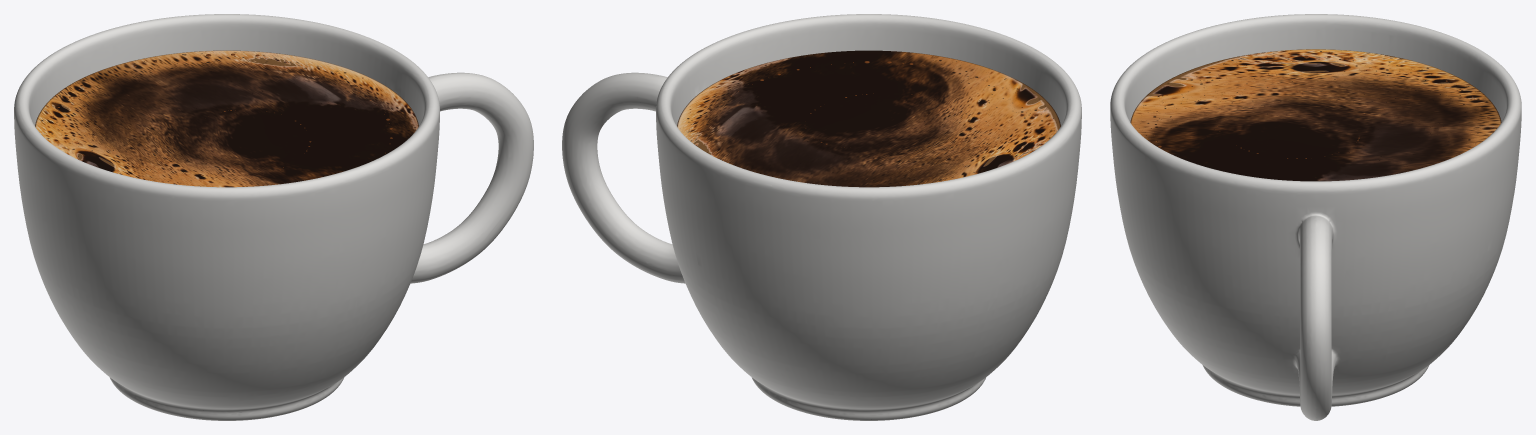
The model's file is ceh-coffee.glb.
The picture shows the model from 3 angles, left to right: view 1: azimuth 30°, elevation 25°; view 2: azimuth 150°, elevation 25°; view 3: azimuth 270°, elevation 25°; orthographic projection. The views are drawn at different scales.
Visible parts, largest first — view 1: CoffeeCup_Ceramic_Export, Coffee_Surface_Export, Coffee_Crema_Export; view 2: CoffeeCup_Ceramic_Export, Coffee_Surface_Export, Coffee_Crema_Export; view 3: CoffeeCup_Ceramic_Export, Coffee_Surface_Export, Coffee_Crema_Export.
Part boxes in pixels (x1=…): CoffeeCup_Ceramic_Export: x1=14, y1=14, x2=533, y2=420; Coffee_Surface_Export: x1=35, y1=50, x2=418, y2=187; Coffee_Crema_Export: x1=35, y1=50, x2=418, y2=187; CoffeeCup_Ceramic_Export: x1=562, y1=14, x2=1081, y2=420; Coffee_Surface_Export: x1=677, y1=50, x2=1060, y2=187; Coffee_Crema_Export: x1=677, y1=52, x2=1060, y2=186; CoffeeCup_Ceramic_Export: x1=1110, y1=14, x2=1521, y2=420; Coffee_Surface_Export: x1=1130, y1=49, x2=1501, y2=181; Coffee_Crema_Export: x1=1130, y1=49, x2=1501, y2=181.
Size of the model in its own units: 0.1263 by 0.0669 by 0.0952.
Materials: 5 (2 with a texture image).
